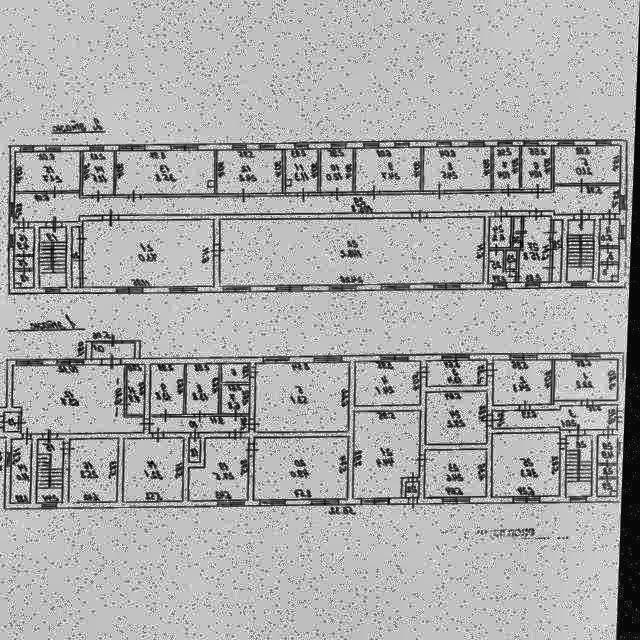room: (16, 185, 621, 222), (221, 216, 487, 286), (15, 364, 147, 433), (84, 220, 216, 287), (258, 363, 353, 432), (356, 409, 424, 498), (258, 436, 353, 499), (116, 149, 217, 195), (495, 432, 564, 496), (126, 438, 187, 503), (193, 437, 252, 501), (73, 436, 122, 503), (495, 404, 621, 430), (429, 391, 490, 444), (424, 146, 492, 191), (428, 449, 490, 497), (218, 149, 284, 193), (358, 361, 424, 405), (357, 147, 422, 191), (495, 359, 555, 404), (558, 359, 621, 401), (16, 151, 81, 191), (556, 145, 621, 184), (521, 215, 553, 283), (568, 219, 596, 282), (189, 362, 222, 414), (154, 363, 187, 415), (41, 439, 67, 503), (570, 434, 596, 497), (41, 227, 68, 287), (153, 416, 252, 432), (429, 360, 490, 385), (287, 148, 320, 193), (322, 147, 355, 192), (14, 438, 36, 503), (84, 151, 116, 195), (523, 145, 553, 190), (495, 145, 521, 190), (490, 249, 518, 283), (130, 364, 148, 414), (224, 384, 253, 414), (492, 216, 513, 247), (95, 343, 137, 358), (554, 219, 564, 281), (601, 434, 621, 463), (16, 227, 36, 255), (225, 363, 253, 382), (601, 219, 621, 245), (74, 226, 82, 287), (601, 479, 621, 496), (601, 264, 621, 280), (17, 271, 35, 287), (193, 438, 204, 462), (516, 216, 524, 247), (8, 412, 21, 431), (602, 248, 621, 261), (16, 256, 36, 268), (410, 481, 423, 498), (508, 249, 519, 269), (601, 465, 621, 476)
